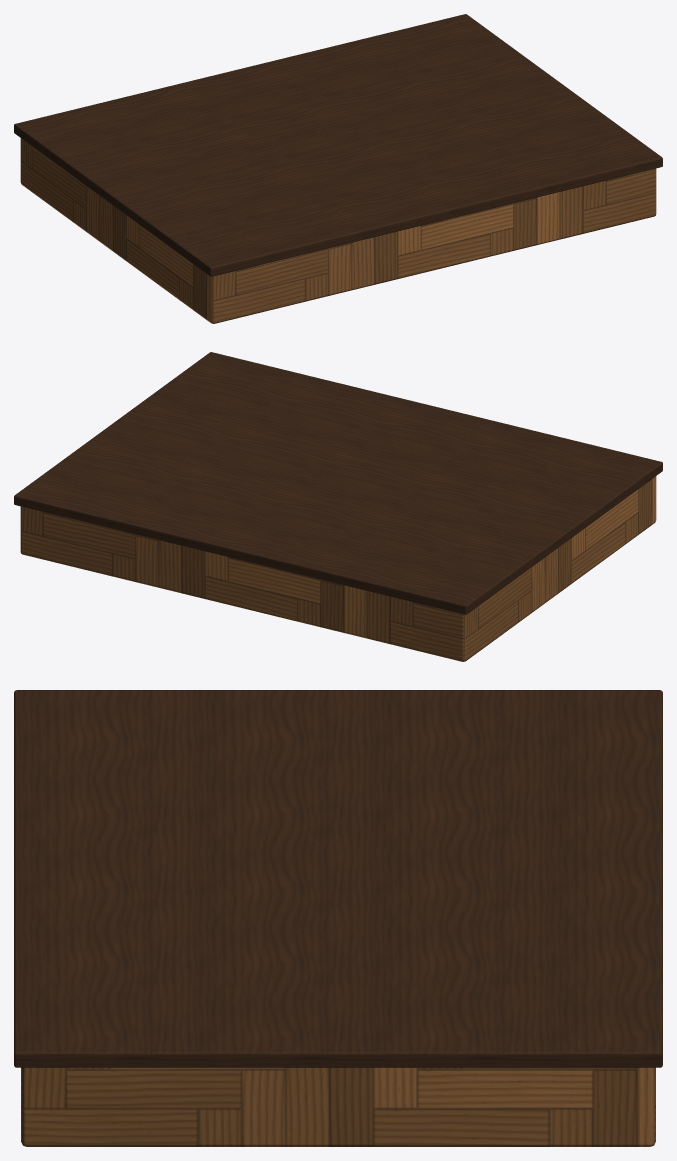
The model's file is estrade.glb.
3 views of the same model, one above another, from view 1: azimuth 30°, elevation 25°; view 2: azimuth 150°, elevation 25°; view 3: azimuth 270°, elevation 25° (orthographic). The views are drawn at different scales.
Parts seen in each view (by area): view 1: estrade; view 2: estrade; view 3: estrade.
Part boxes in pixels (x1=…): estrade: x1=14, y1=14, x2=662, y2=323; estrade: x1=14, y1=352, x2=662, y2=661; estrade: x1=14, y1=690, x2=662, y2=1146.
Bounding box in the file's own units: 2.44 × 0.31 × 1.84.
Materials: 2 (2 with a texture image).
